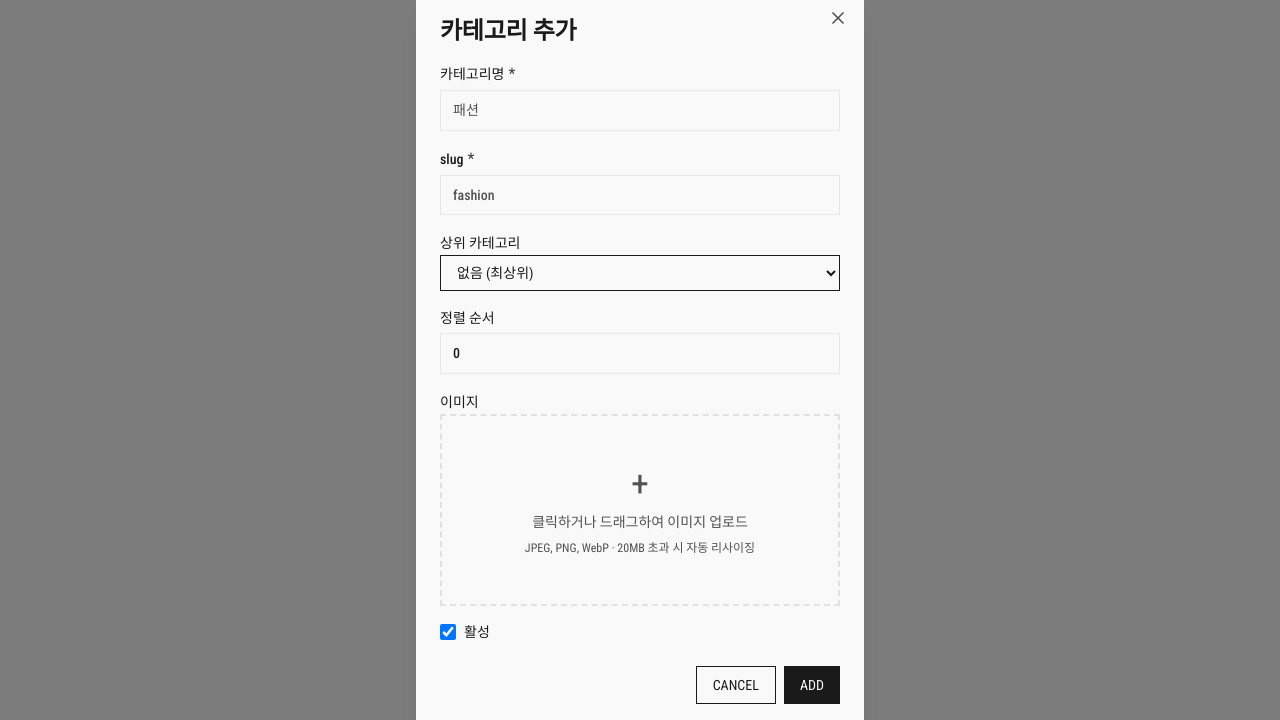
Scenario: CategoryFormModal › 카테고리명 입력 시 slug 자동 생성
Type "Test Category" into the field labelled "카테고리명". click: (640,110)
box: [440,90,840,131]
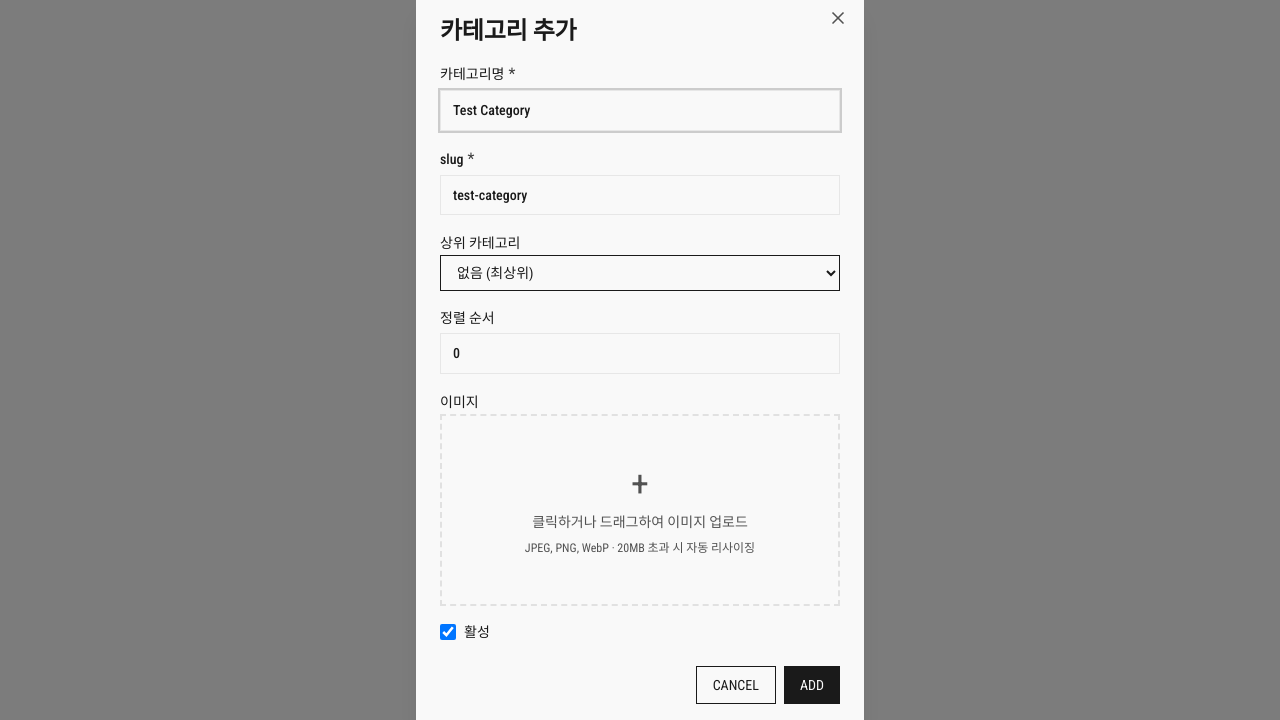
Now the field showing "test-category" is shown, box [440,175,840,215]
